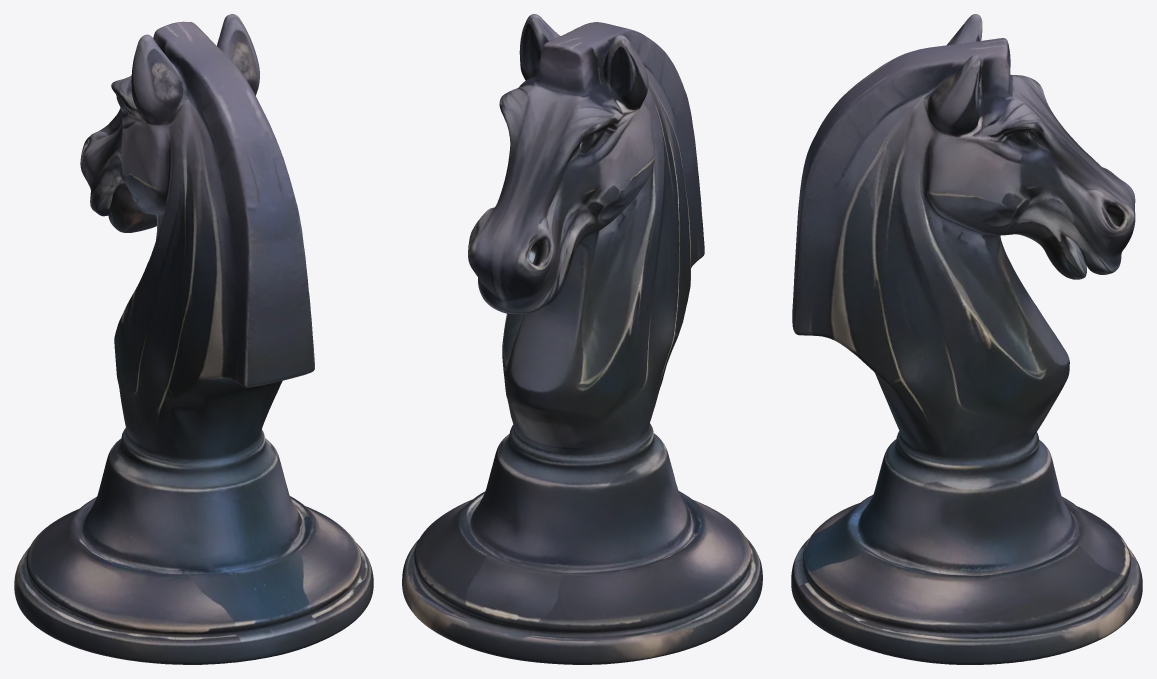
Rendered from blackknight.glb.
3 renders of one model, left to right at view 1: azimuth 30°, elevation 25°; view 2: azimuth 150°, elevation 25°; view 3: azimuth 270°, elevation 25°, orthographic.
Visible parts, largest first — view 1: Object_4; view 2: Object_4; view 3: Object_4.
Part boxes in pixels (x1,y1,x2,y2): Object_4: [14, 14, 373, 664]; Object_4: [402, 14, 762, 664]; Object_4: [791, 14, 1142, 664].
Size of the model in its own units: 0.5204 by 0.9497 by 0.5179.
1 material, 1 textured.
